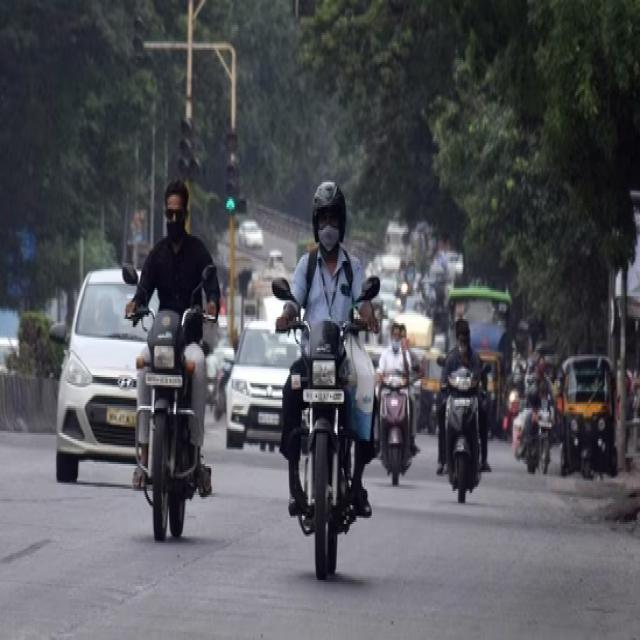Vehicles: (63, 238, 199, 534), (286, 285, 356, 603), (124, 288, 201, 572), (222, 297, 324, 486), (545, 331, 629, 517), (432, 347, 492, 531), (438, 292, 517, 368), (374, 360, 414, 494), (238, 217, 264, 254)
